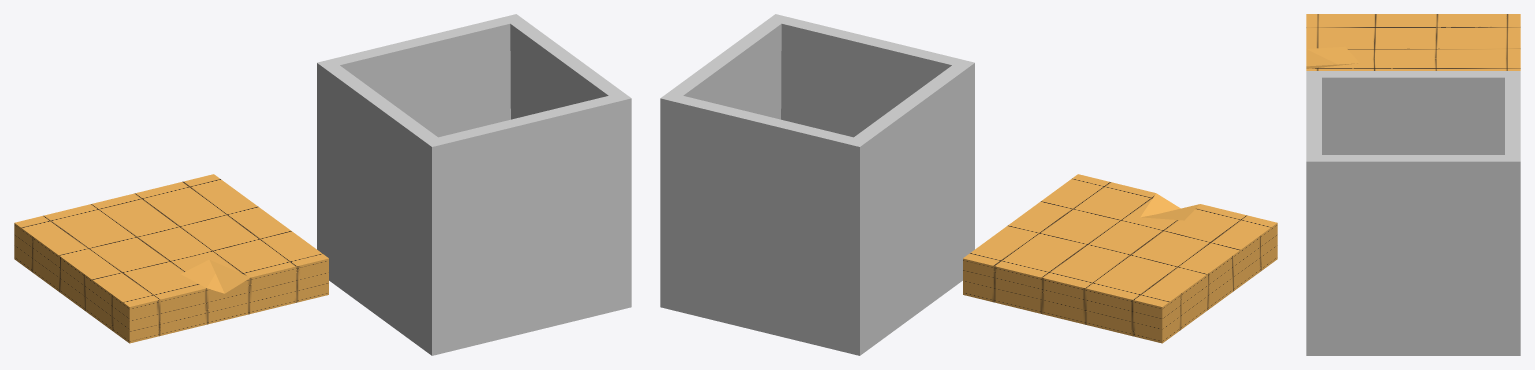
Rendered from bridge_river.fbx.
3 renders of one model, left to right at view 1: azimuth 30°, elevation 25°; view 2: azimuth 150°, elevation 25°; view 3: azimuth 270°, elevation 25°, orthographic. The views are drawn at different scales.
Visible parts, largest first — view 1: river, bridge; view 2: river, bridge; view 3: river, bridge.
Boxes of the visible parts, <box> form: river: <box>317,14,631,355</box>; bridge: <box>14,174,328,343</box>; river: <box>660,14,974,355</box>; bridge: <box>963,174,1277,343</box>; river: <box>1306,71,1520,355</box>; bridge: <box>1306,14,1520,70</box>.
Size of the model in its own units: 503 by 200 by 200.
2 materials, 1 textured.
